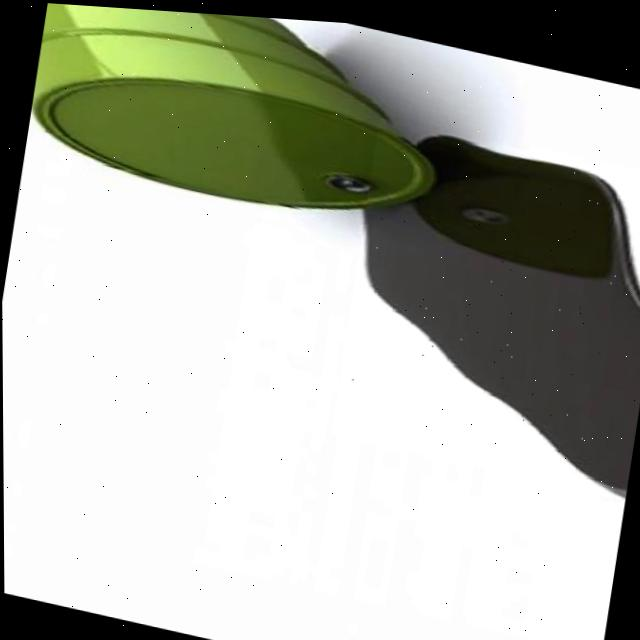spillage: (363, 127, 640, 491)
